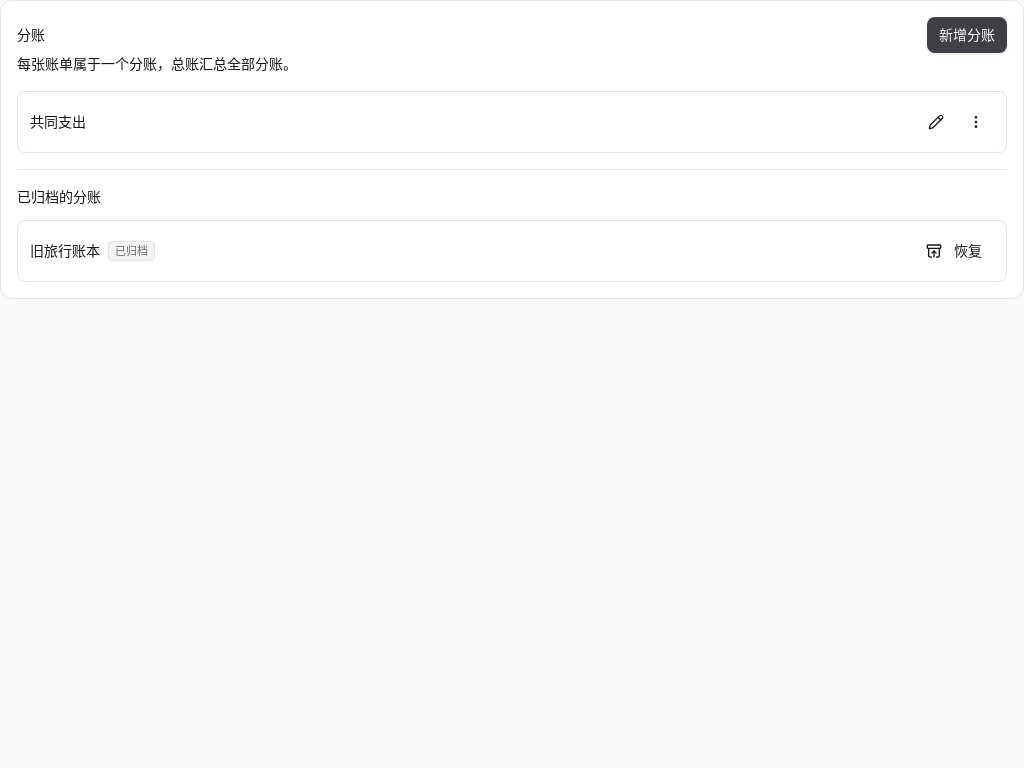
Test: 设置 book list data range › archives a book after confirmation and moves it to the archived list
This screenshot has width=1024, height=768.
Click the 3rd button at {"x": 976, "y": 122}, box top-left (958, 104), bottom-right (994, 140)
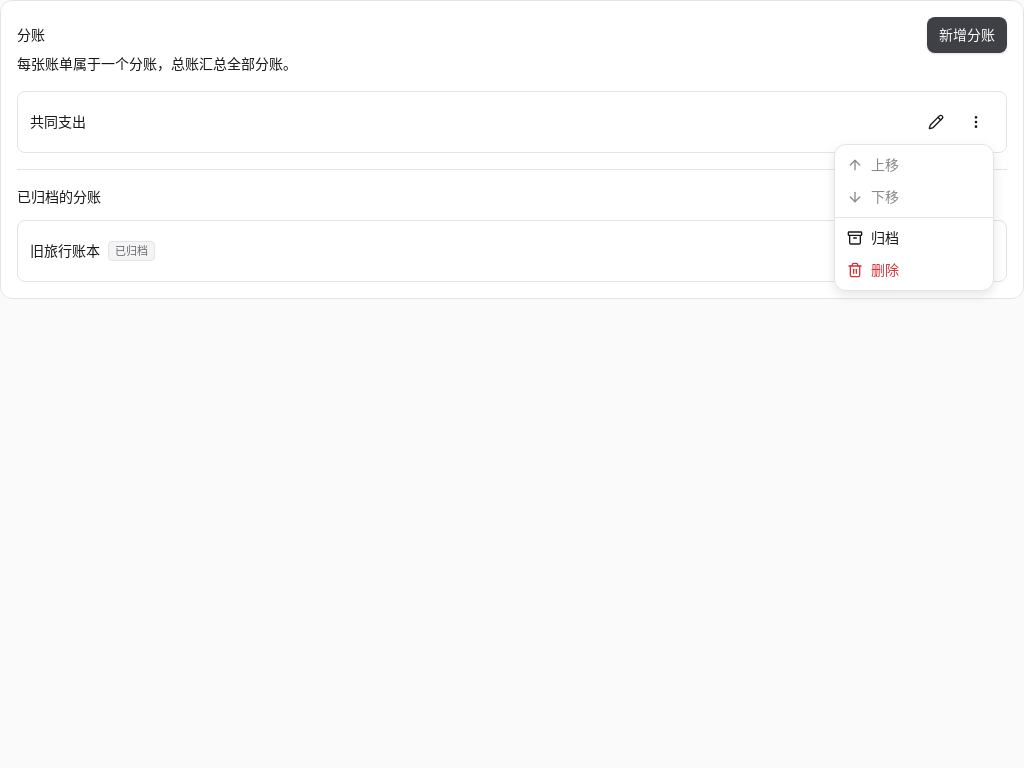
Click the menu item "归档" at {"x": 873, "y": 238}, box top-left (847, 229), bottom-right (899, 246)
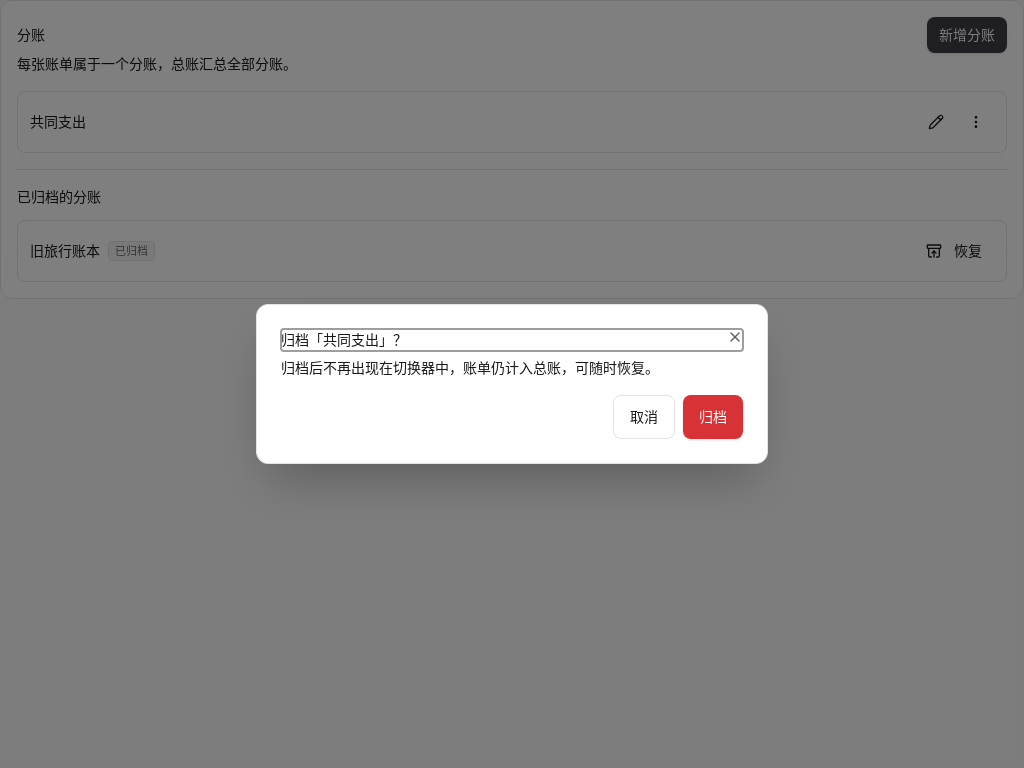
Click the button "归档" at {"x": 713, "y": 417}, box top-left (683, 395), bottom-right (743, 439)
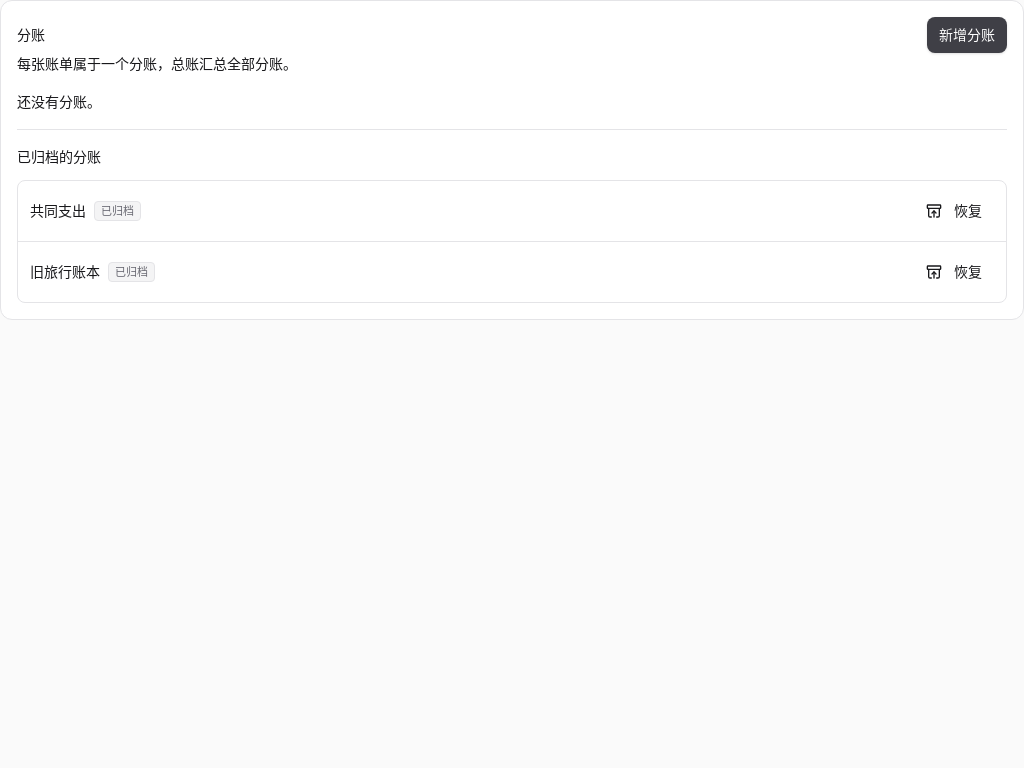
Expected: the text "还没有分账。" is shown, top-left (17, 93), bottom-right (101, 110)
Expected: the number of buttons "恢复" is 2, top-left (914, 193), bottom-right (994, 229); top-left (914, 254), bottom-right (994, 290)
